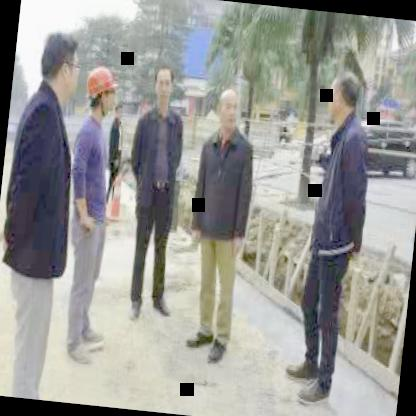helmet: (83, 64, 119, 117)
